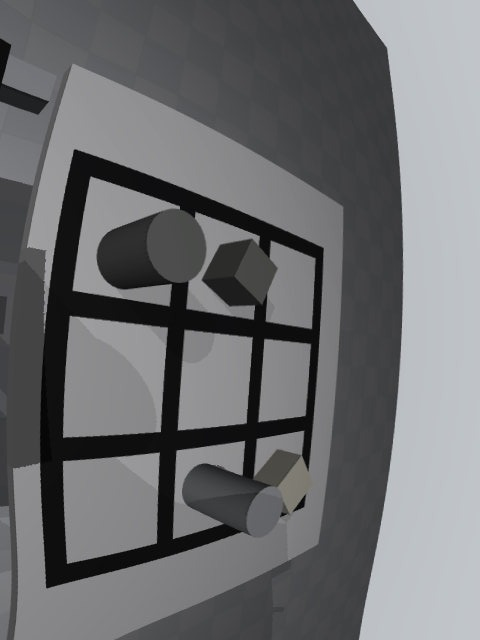can: (182, 463, 283, 538)
cube: (201, 239, 278, 307)
cylinder: (96, 208, 206, 289)
foam: (253, 449, 313, 515)
